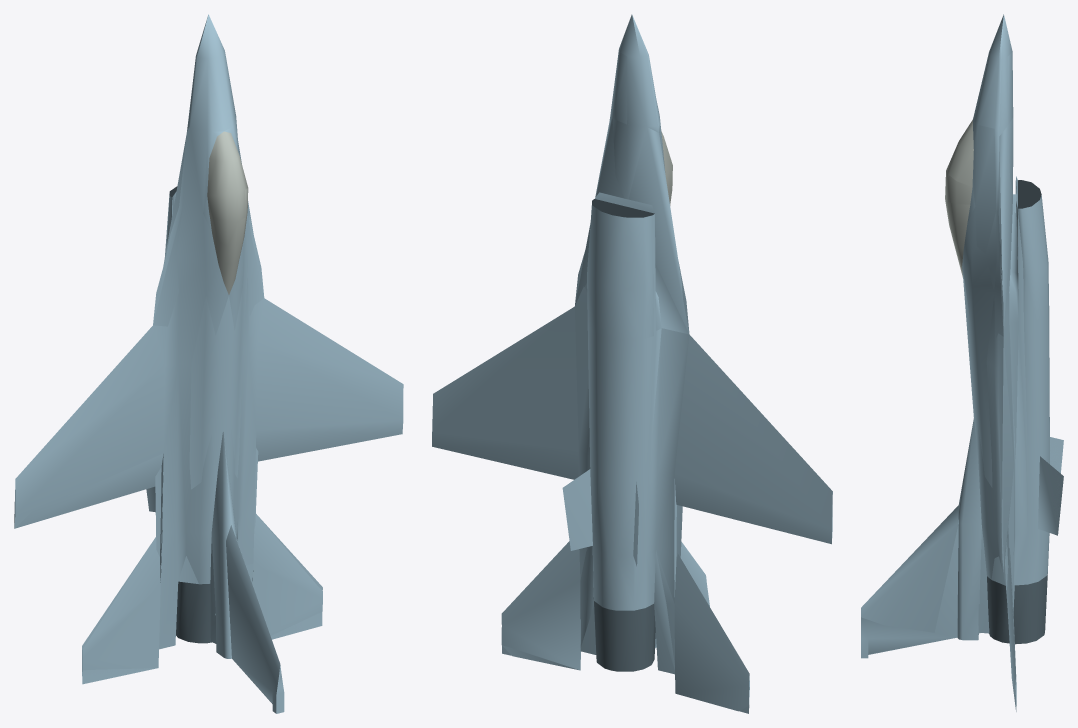
3 renders of one model, left to right at view 1: azimuth 30°, elevation 25°; view 2: azimuth 150°, elevation 25°; view 3: azimuth 270°, elevation 25°, orthographic. The views are drawn at different scales.
Parts seen in each view (by area): view 1: db_f16c_newLOD_LOD child0_wings_pl18_Geometry_0.001, db_f16c_newLOD_LOD child0_body_p13913_Geometry_0.001, db_f16c_newLOD_LOD child0_hstabs_pl20_Geometry_0.001, db_f16c_newLOD_LOD child0_tail_p16847_Geometry_0.001, db_f16c_newLOD_LOD child0_body2_p15750_Geometry_0.001, db_f16c_newLOD_LOD child0_body3_p16770_Geometry_0.001, db_f16c_newLOD_LOD child0_cpit_pl14_Geometry_0.001, db_f16c_newLOD_LOD child0_wing2_p15828_Geometry_0.001, db_f16c_newLOD_LOD child0_exh_p13641_Geometry_0.001, db_f16c_newLOD_LOD child0_stab3_p16821_Geometry_0.001; view 2: db_f16c_newLOD_LOD child0_body_p13778_Geometry_0.001, db_f16c_newLOD_LOD child0_wings_pl18_Geometry_0.001, db_f16c_newLOD_LOD child0_hstabs_pl20_Geometry_0.001, db_f16c_newLOD_LOD child0_body3_p16769_Geometry_0.001, db_f16c_newLOD_LOD child0_body2_p15747_Geometry_0.001, db_f16c_newLOD_LOD child0_exh_p13641_Geometry_0.001, db_f16c_newLOD_LOD child0_fins_p13787_Geometry_0.001, db_f16c_newLOD_LOD child0_body_p13913_Geometry_0.001, db_f16c_newLOD_LOD child0_tail_p16847_Geometry_0.001; view 3: db_f16c_newLOD_LOD child0_body_p13778_Geometry_0.001, db_f16c_newLOD_LOD child0_body_p13913_Geometry_0.001, db_f16c_newLOD_LOD child0_tail_p16847_Geometry_0.001, db_f16c_newLOD_LOD child0_body2_p15750_Geometry_0.001, db_f16c_newLOD_LOD child0_tail2_p15735_Geometry_0.001, db_f16c_newLOD_LOD child0_exh_p13641_Geometry_0.001, db_f16c_newLOD_LOD child0_wings_pl18_Geometry_0.001, db_f16c_newLOD_LOD child0_cpit_pl14_Geometry_0.001, db_f16c_newLOD_LOD child0_body2_p15747_Geometry_0.001, db_f16c_newLOD_LOD child0_fins_p13787_Geometry_0.001, db_f16c_newLOD_LOD child0_body3_p16769_Geometry_0.001, db_f16c_newLOD_LOD child0_hstabs_pl20_Geometry_0.001 (+5 smaller).
Boxes of the visible parts, x1,y1,x2,y2 form: db_f16c_newLOD_LOD child0_wings_pl18_Geometry_0.001: (14,298,403,528); db_f16c_newLOD_LOD child0_body_p13913_Geometry_0.001: (153,14,264,649); db_f16c_newLOD_LOD child0_hstabs_pl20_Geometry_0.001: (82,514,322,675); db_f16c_newLOD_LOD child0_tail_p16847_Geometry_0.001: (211,431,284,713); db_f16c_newLOD_LOD child0_body2_p15750_Geometry_0.001: (153,116,264,583); db_f16c_newLOD_LOD child0_body3_p16770_Geometry_0.001: (155,136,258,556); db_f16c_newLOD_LOD child0_cpit_pl14_Geometry_0.001: (207,132,248,294); db_f16c_newLOD_LOD child0_wing2_p15828_Geometry_0.001: (15,453,163,528); db_f16c_newLOD_LOD child0_exh_p13641_Geometry_0.001: (176,581,211,643); db_f16c_newLOD_LOD child0_stab3_p16821_Geometry_0.001: (82,514,322,684); db_f16c_newLOD_LOD child0_body_p13778_Geometry_0.001: (574,14,689,610); db_f16c_newLOD_LOD child0_wings_pl18_Geometry_0.001: (432,307,832,544); db_f16c_newLOD_LOD child0_hstabs_pl20_Geometry_0.001: (501,541,749,711); db_f16c_newLOD_LOD child0_body3_p16769_Geometry_0.001: (575,119,689,669); db_f16c_newLOD_LOD child0_body2_p15747_Geometry_0.001: (580,52,688,674); db_f16c_newLOD_LOD child0_exh_p13641_Geometry_0.001: (593,597,655,671); db_f16c_newLOD_LOD child0_fins_p13787_Geometry_0.001: (562,469,638,566); db_f16c_newLOD_LOD child0_body_p13913_Geometry_0.001: (633,18,676,596); db_f16c_newLOD_LOD child0_tail_p16847_Geometry_0.001: (655,541,709,648); db_f16c_newLOD_LOD child0_body_p13778_Geometry_0.001: (999,15,1049,585); db_f16c_newLOD_LOD child0_body_p13913_Geometry_0.001: (962,14,1013,592); db_f16c_newLOD_LOD child0_tail_p16847_Geometry_0.001: (861,418,981,658); db_f16c_newLOD_LOD child0_body2_p15750_Geometry_0.001: (963,125,1007,602); db_f16c_newLOD_LOD child0_tail2_p15735_Geometry_0.001: (861,505,989,633); db_f16c_newLOD_LOD child0_exh_p13641_Geometry_0.001: (987,573,1047,644); db_f16c_newLOD_LOD child0_wings_pl18_Geometry_0.001: (998,337,1013,571); db_f16c_newLOD_LOD child0_cpit_pl14_Geometry_0.001: (945,121,973,277); db_f16c_newLOD_LOD child0_body2_p15747_Geometry_0.001: (1005,52,1028,600); db_f16c_newLOD_LOD child0_fins_p13787_Geometry_0.001: (1038,437,1063,535); db_f16c_newLOD_LOD child0_body3_p16769_Geometry_0.001: (999,125,1015,610); db_f16c_newLOD_LOD child0_hstabs_pl20_Geometry_0.001: (1006,547,1016,705).
Bounding box in the file's own units: 29.96 × 47.69 × 13.65.
